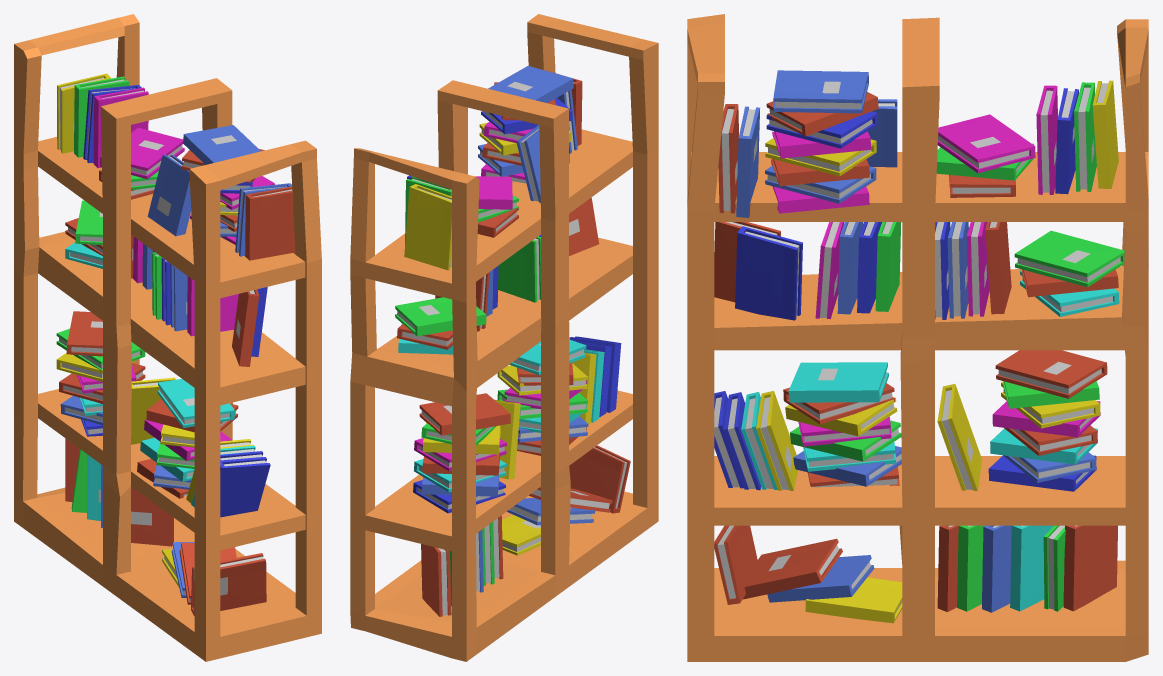
Rendered from rak buku 2.fbx.
The picture shows the model from 3 angles, left to right: view 1: azimuth 30°, elevation 25°; view 2: azimuth 150°, elevation 25°; view 3: azimuth 270°, elevation 25°; orthographic projection. The views are drawn at different scales.
Parts seen in each view (by area): view 1: Cube, Cube.060, Cube.002, Cube.049, Cube.033, Cube.003, Cube.001, Cube.013, Cube.042; view 2: Cube, Cube.033, Cube.002, Cube.060, Cube.049, Cube.013, Cube.042, Cube.001, Cube.003; view 3: Cube, Cube.060, Cube.002, Cube.033, Cube.001, Cube.003, Cube.049, Cube.042, Cube.013.
Part boxes in pixels (bbox=[...]): Cube: bbox=[14, 14, 321, 661]; Cube.060: bbox=[147, 125, 295, 260]; Cube.002: bbox=[137, 379, 270, 517]; Cube.049: bbox=[57, 73, 184, 199]; Cube.033: bbox=[56, 311, 175, 444]; Cube.003: bbox=[152, 252, 267, 366]; Cube.001: bbox=[65, 438, 173, 546]; Cube.013: bbox=[162, 542, 266, 616]; Cube.042: bbox=[65, 200, 154, 289]; Cube: bbox=[350, 14, 658, 661]; Cube.033: bbox=[413, 393, 520, 513]; Cube.002: bbox=[497, 336, 621, 455]; Cube.060: bbox=[478, 66, 582, 202]; Cube.049: bbox=[404, 175, 518, 270]; Cube.013: bbox=[502, 445, 630, 555]; Cube.042: bbox=[395, 266, 498, 354]; Cube.001: bbox=[421, 515, 503, 616]; Cube.003: bbox=[498, 197, 598, 302]; Cube: bbox=[687, 14, 1148, 661]; Cube.060: bbox=[718, 70, 897, 217]; Cube.002: bbox=[714, 362, 901, 490]; Cube.033: bbox=[937, 350, 1107, 491]; Cube.001: bbox=[937, 525, 1117, 612]; Cube.003: bbox=[714, 222, 901, 320]; Cube.049: bbox=[936, 80, 1118, 197]; Cube.042: bbox=[935, 222, 1124, 319]; Cube.013: bbox=[714, 525, 902, 623].
Size of the model in its own units: 1120 by 4380 by 3161.
